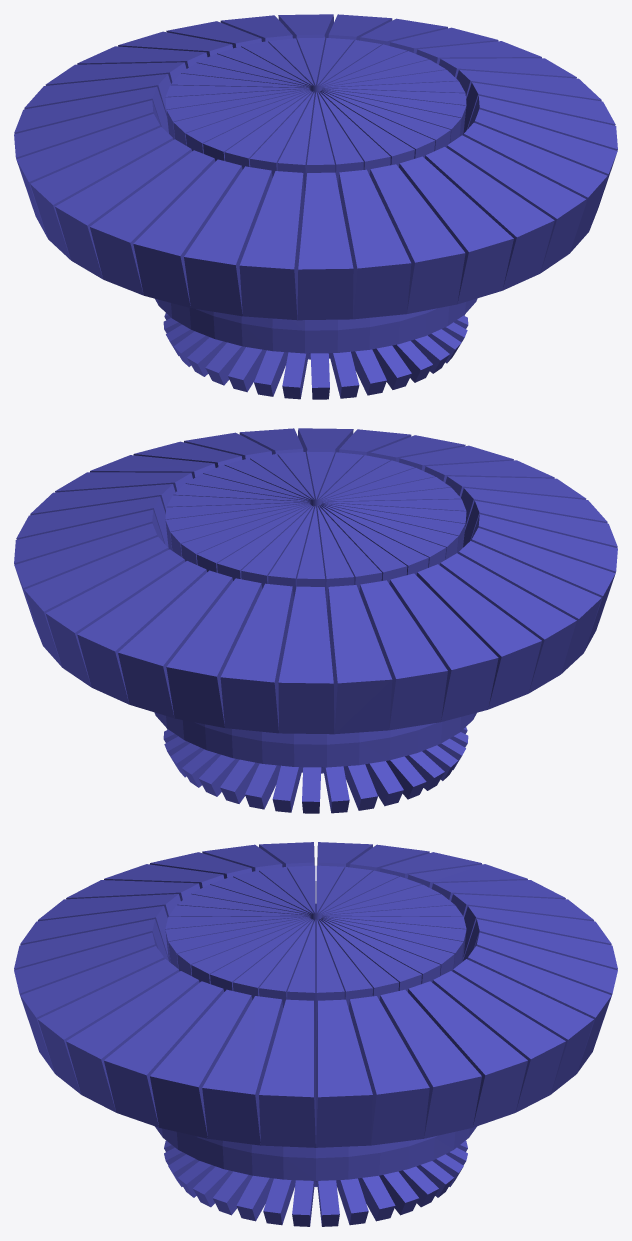
Rendered from navemae2.fbx.
The picture shows the model from 3 angles, top to bottom: view 1: azimuth 30°, elevation 25°; view 2: azimuth 150°, elevation 25°; view 3: azimuth 270°, elevation 25°; orthographic projection.
Visible parts, largest first — view 1: ShapeIndexedFaceSet; view 2: ShapeIndexedFaceSet; view 3: ShapeIndexedFaceSet.
Part boxes in pixels (left/top/right/bottom): ShapeIndexedFaceSet: left=14, top=14, right=617, bottom=399; ShapeIndexedFaceSet: left=14, top=428, right=617, bottom=813; ShapeIndexedFaceSet: left=14, top=842, right=617, bottom=1226.
Size of the model in its own units: 235 by 112 by 235.
